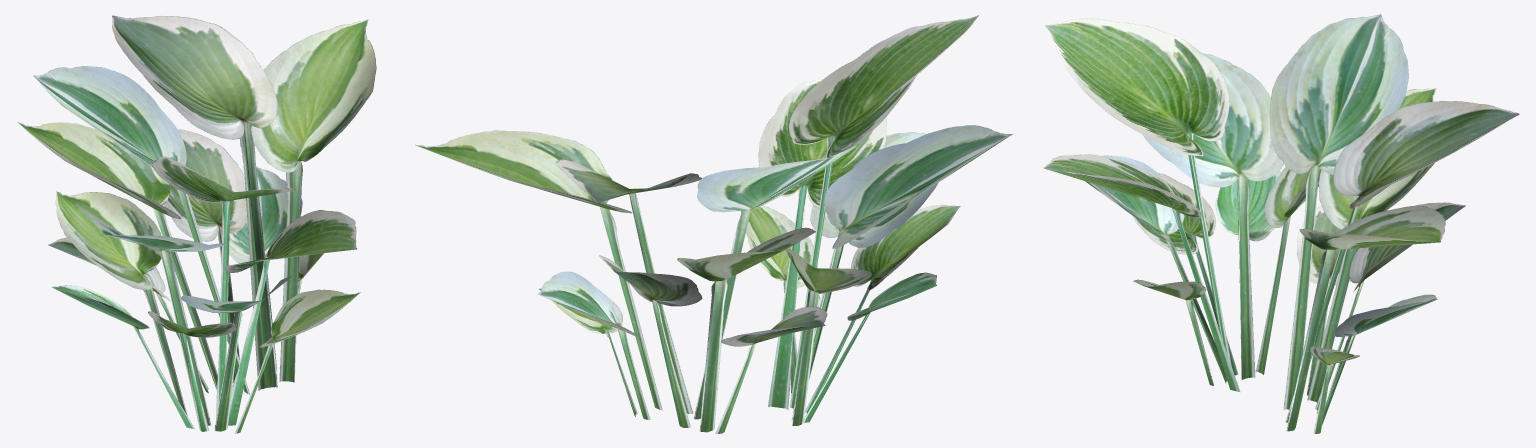
The model's file is plant_small_wg_00R_wild.fbx.
3 renders of one model, left to right at view 1: azimuth 30°, elevation 25°; view 2: azimuth 150°, elevation 25°; view 3: azimuth 270°, elevation 25°, orthographic. The views are drawn at different scales.
Parts seen in each view (by area): view 1: plant_small_wg_00R_wild; view 2: plant_small_wg_00R_wild; view 3: plant_small_wg_00R_wild.
Part boxes in pixels (x1,y1,x2,y2): plant_small_wg_00R_wild: [17, 15, 376, 433]; plant_small_wg_00R_wild: [415, 15, 1012, 433]; plant_small_wg_00R_wild: [1043, 14, 1519, 433].
Size of the model in its own units: 66.21 by 49.89 by 67.08.
